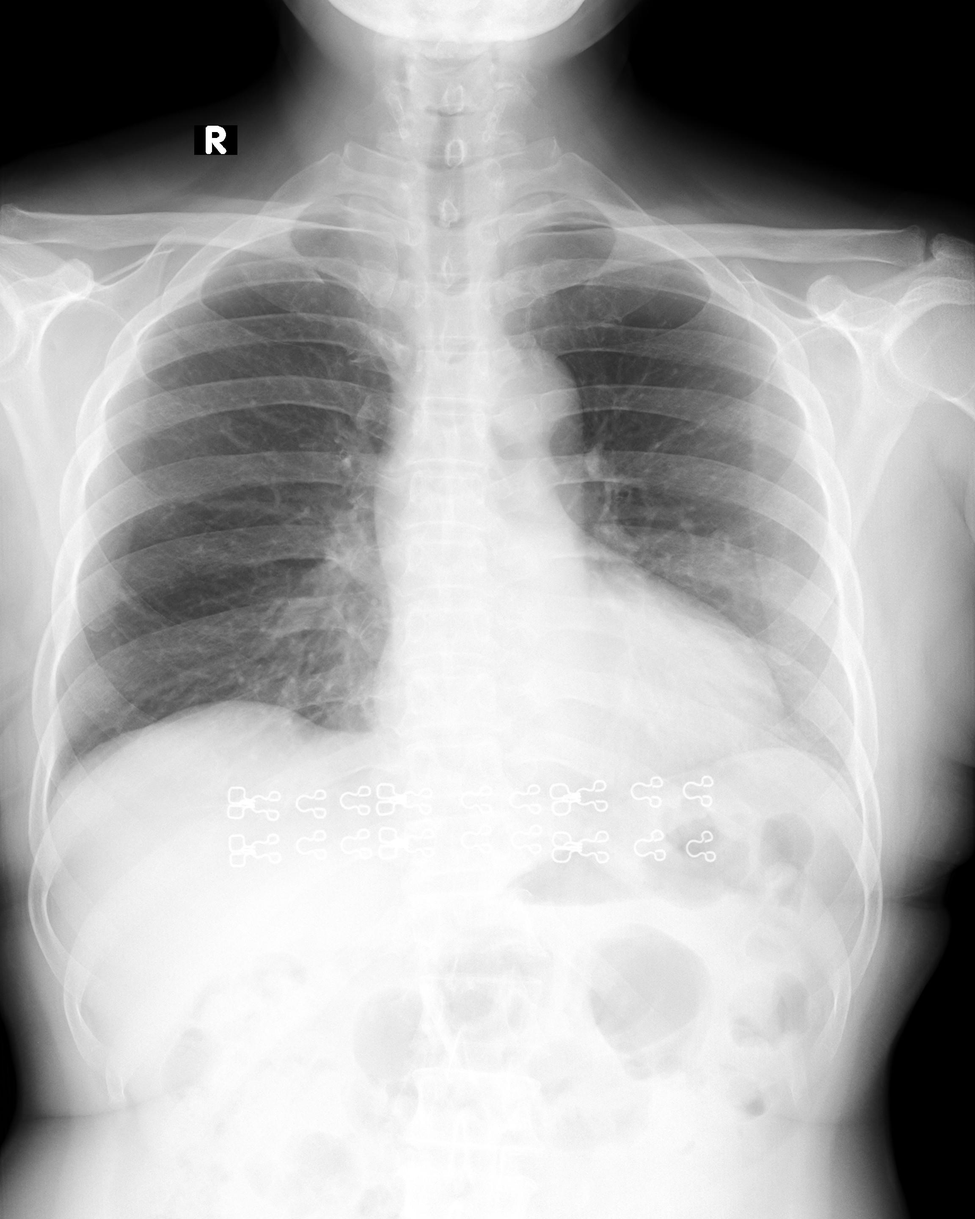Aortic enlargement: (378, 351, 576, 547)
Cardiomegaly: (358, 665, 798, 743)
